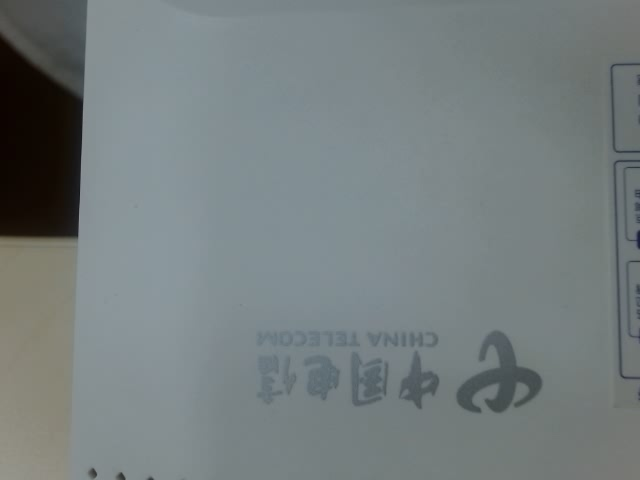AB_ChinaTelecom: (235, 308, 550, 420)
